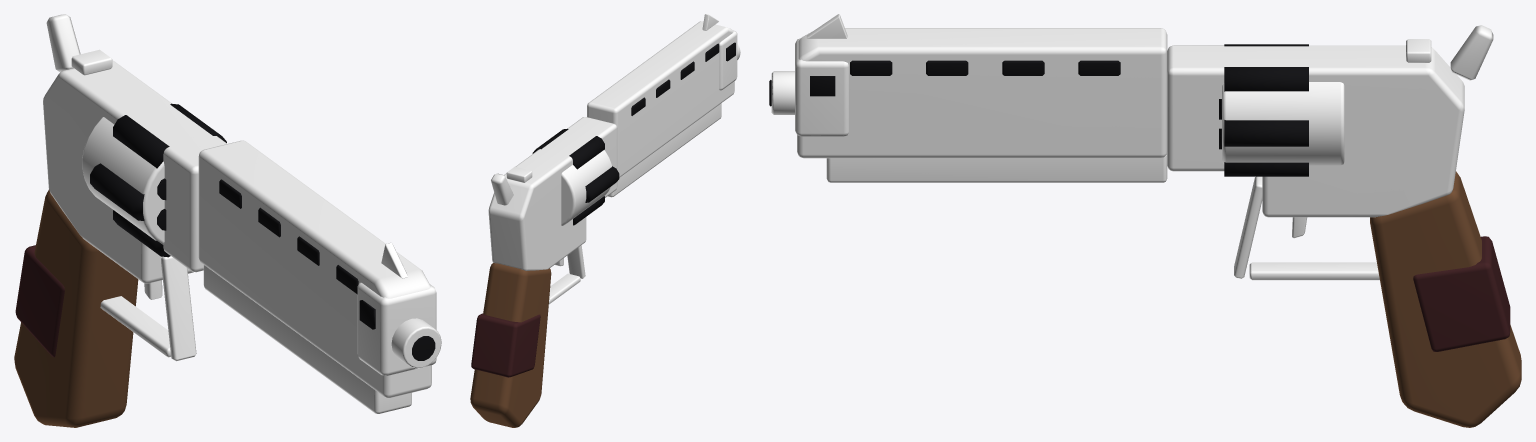
Rendered from revolver.glb.
3 renders of one model, left to right at view 1: azimuth 30°, elevation 25°; view 2: azimuth 150°, elevation 25°; view 3: azimuth 270°, elevation 25°, orthographic. The views are drawn at different scales.
Parts seen in each view (by area): view 1: barrel_shroud, frame, grip, underlug, cylinder, comp, grip_wrap, guard_front, guard_bottom, flute.003, flute.002, barrel (+5 smaller); view 2: barrel_shroud, frame, grip, grip_wrap, cylinder, underlug, comp, flute.003, flute.002, hammer, guard_bottom, guard_front (+1 smaller); view 3: barrel_shroud, frame, grip, underlug, cylinder, grip_wrap, comp, guard_bottom, flute, flute.001, hammer, guard_front (+2 smaller).
Boxes of the visible parts, <box> form: barrel_shroud: <box>198,140,431,397</box>; frame: <box>43,60,226,283</box>; grip: <box>14,189,138,427</box>; underlug: <box>203,265,411,413</box>; cylinder: <box>82,117,164,244</box>; comp: <box>357,282,436,375</box>; grip_wrap: <box>15,245,64,357</box>; guard_front: <box>161,256,196,361</box>; guard_bottom: <box>100,296,170,357</box>; flute.003: <box>90,163,144,220</box>; flute.002: <box>113,115,169,168</box>; barrel: <box>391,318,441,368</box>; barrel_shroud: <box>587,21,734,177</box>; frame: <box>488,117,617,270</box>; grip: <box>470,263,551,427</box>; grip_wrap: <box>471,313,540,377</box>; cylinder: <box>561,150,612,225</box>; underlug: <box>608,103,721,197</box>; comp: <box>719,30,737,90</box>; flute.003: <box>585,166,619,202</box>; flute.002: <box>569,136,604,169</box>; hammer: <box>491,173,513,205</box>; guard_bottom: <box>548,273,580,304</box>; guard_front: <box>567,245,585,278</box>; barrel_shroud: <box>797,28,1167,158</box>; frame: <box>1167,45,1464,217</box>; grip: <box>1370,171,1521,427</box>; underlug: <box>826,152,1167,182</box>; cylinder: <box>1222,82,1344,165</box>; grip_wrap: <box>1413,236,1510,351</box>; comp: <box>795,38,848,136</box>; guard_bottom: <box>1249,262,1379,280</box>; flute: <box>1224,120,1308,146</box>; flute.001: <box>1224,67,1308,91</box>; hammer: <box>1450,25,1493,80</box>; guard_front: <box>1234,176,1262,278</box>.
Bounding box in the file's own units: 0.0623 × 0.2102 × 0.3559.
